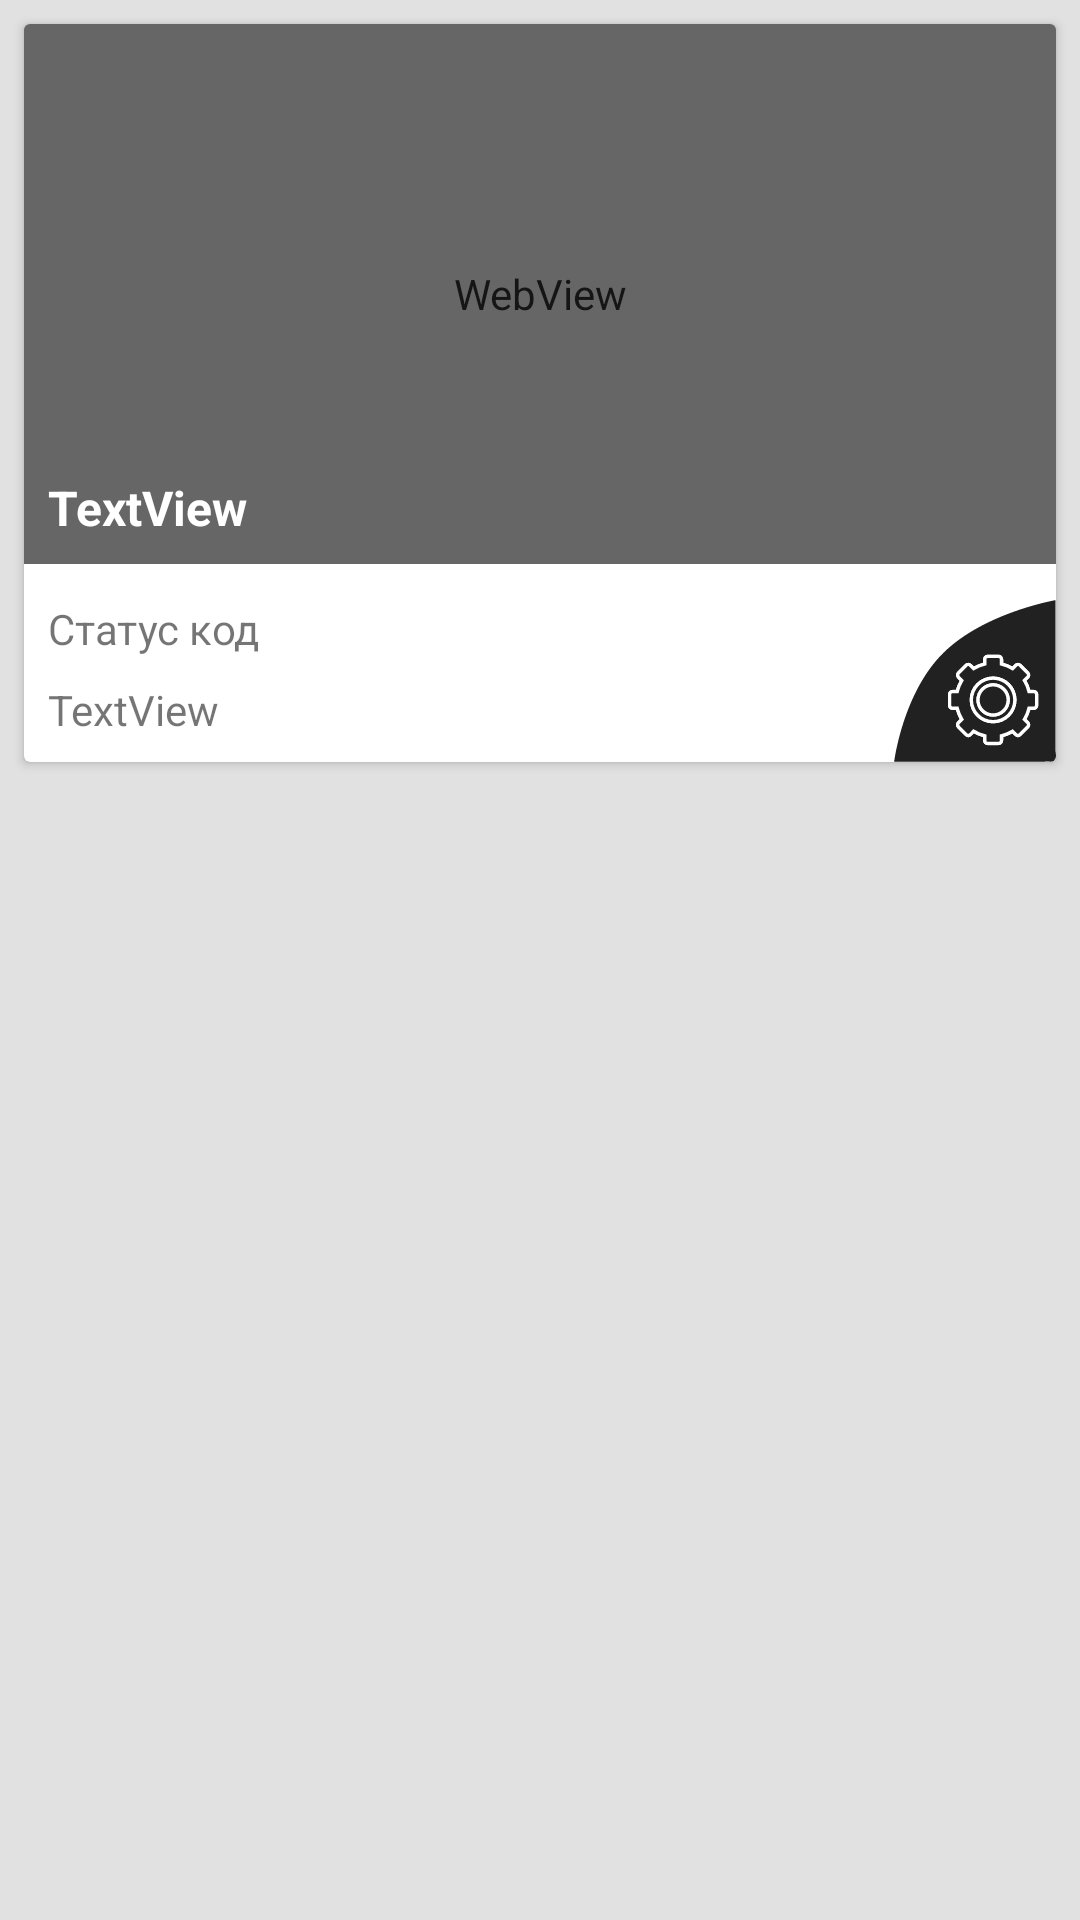

Icon click points for this 1080 × 1920 phone screenshot, format [x,y]:
setting: [975,681]
